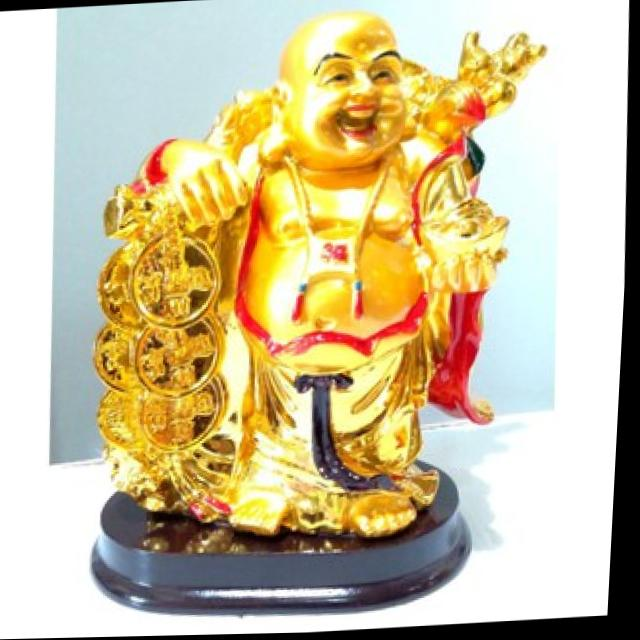Smiling Buddha: (137, 1, 488, 456)
